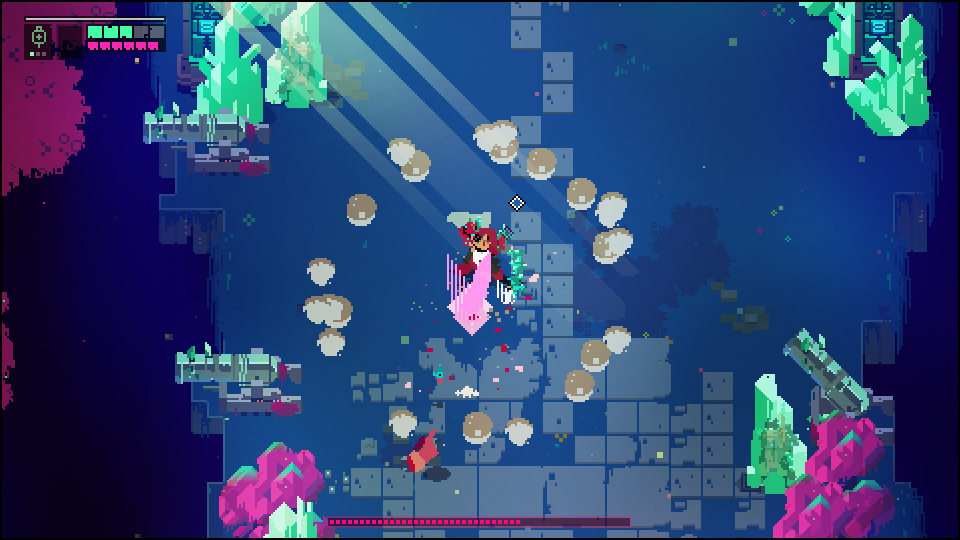hanged_crys: (442, 252, 495, 324)
hanged_man: (442, 209, 525, 306)
player: (400, 424, 447, 475)
